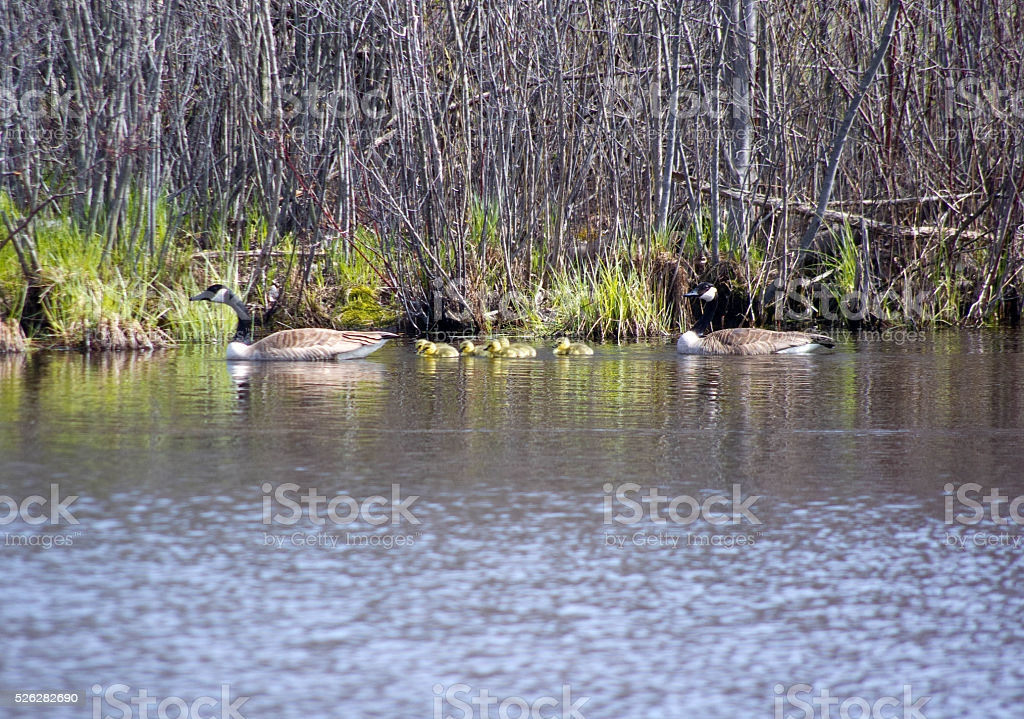goose: (185, 282, 403, 365), (680, 281, 836, 358)
